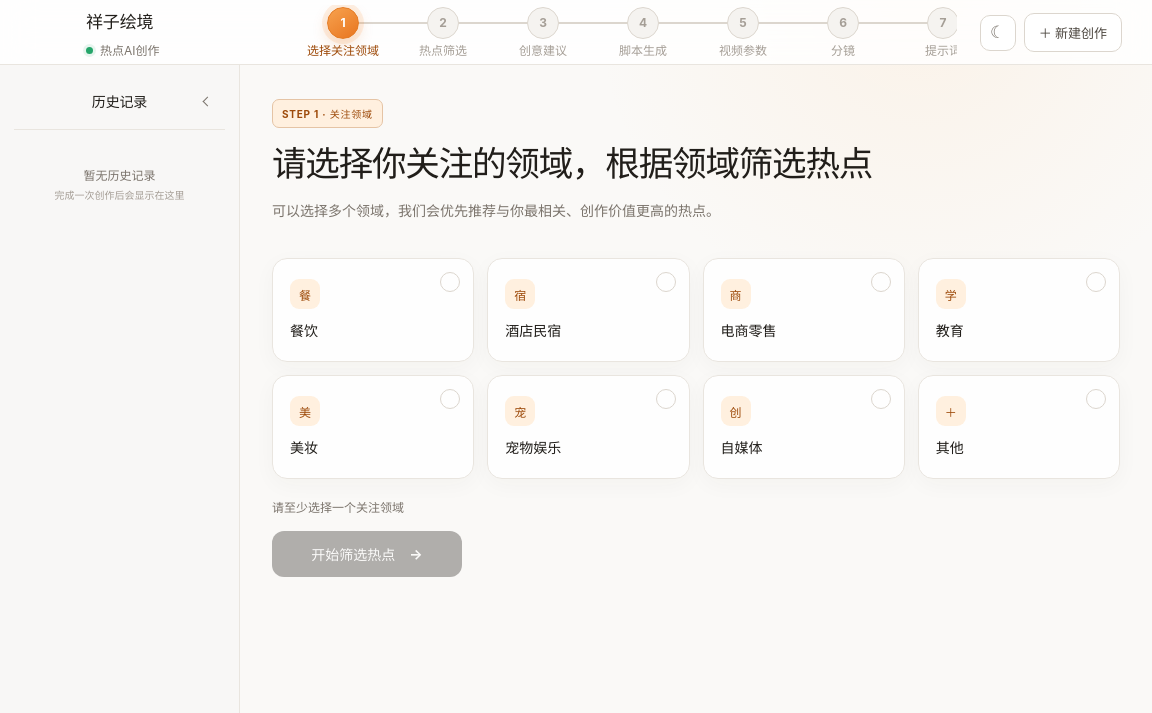
Test: Step2 历史候选页恢复 › 新建创作进入 Step2 仍自动请求，成功后写入 WorkflowState
Click the button "宿 酒店民宿".
click(588, 310)  # box x1=487 y1=258 x2=690 y2=362
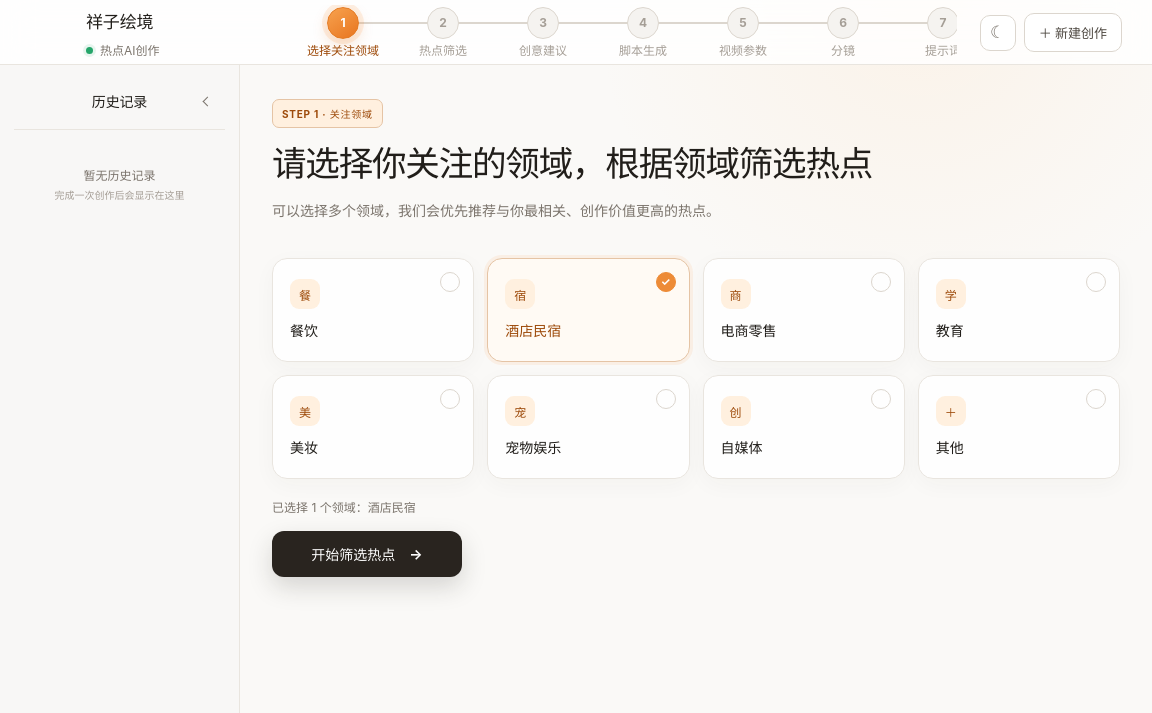
Click the button "开始筛选热点 →".
click(367, 554)  # box x1=272 y1=531 x2=462 y2=577
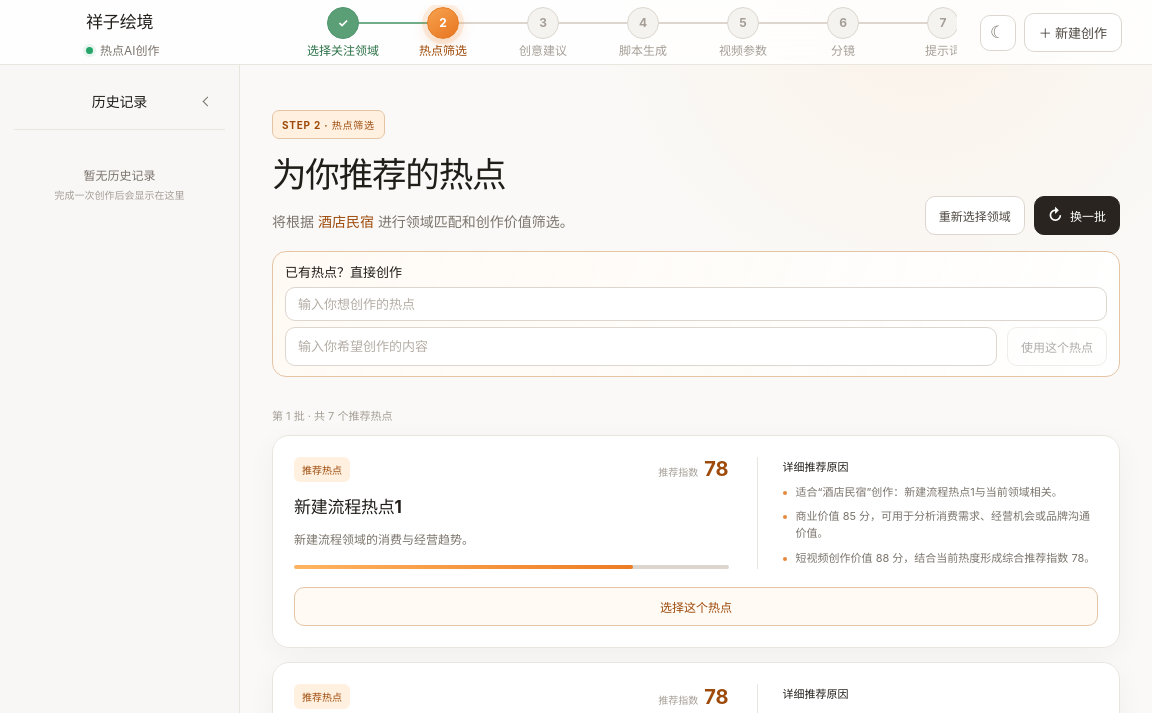
Now the heading "新建流程热点1" is shown, box x1=294 y1=497 x2=402 y2=517
